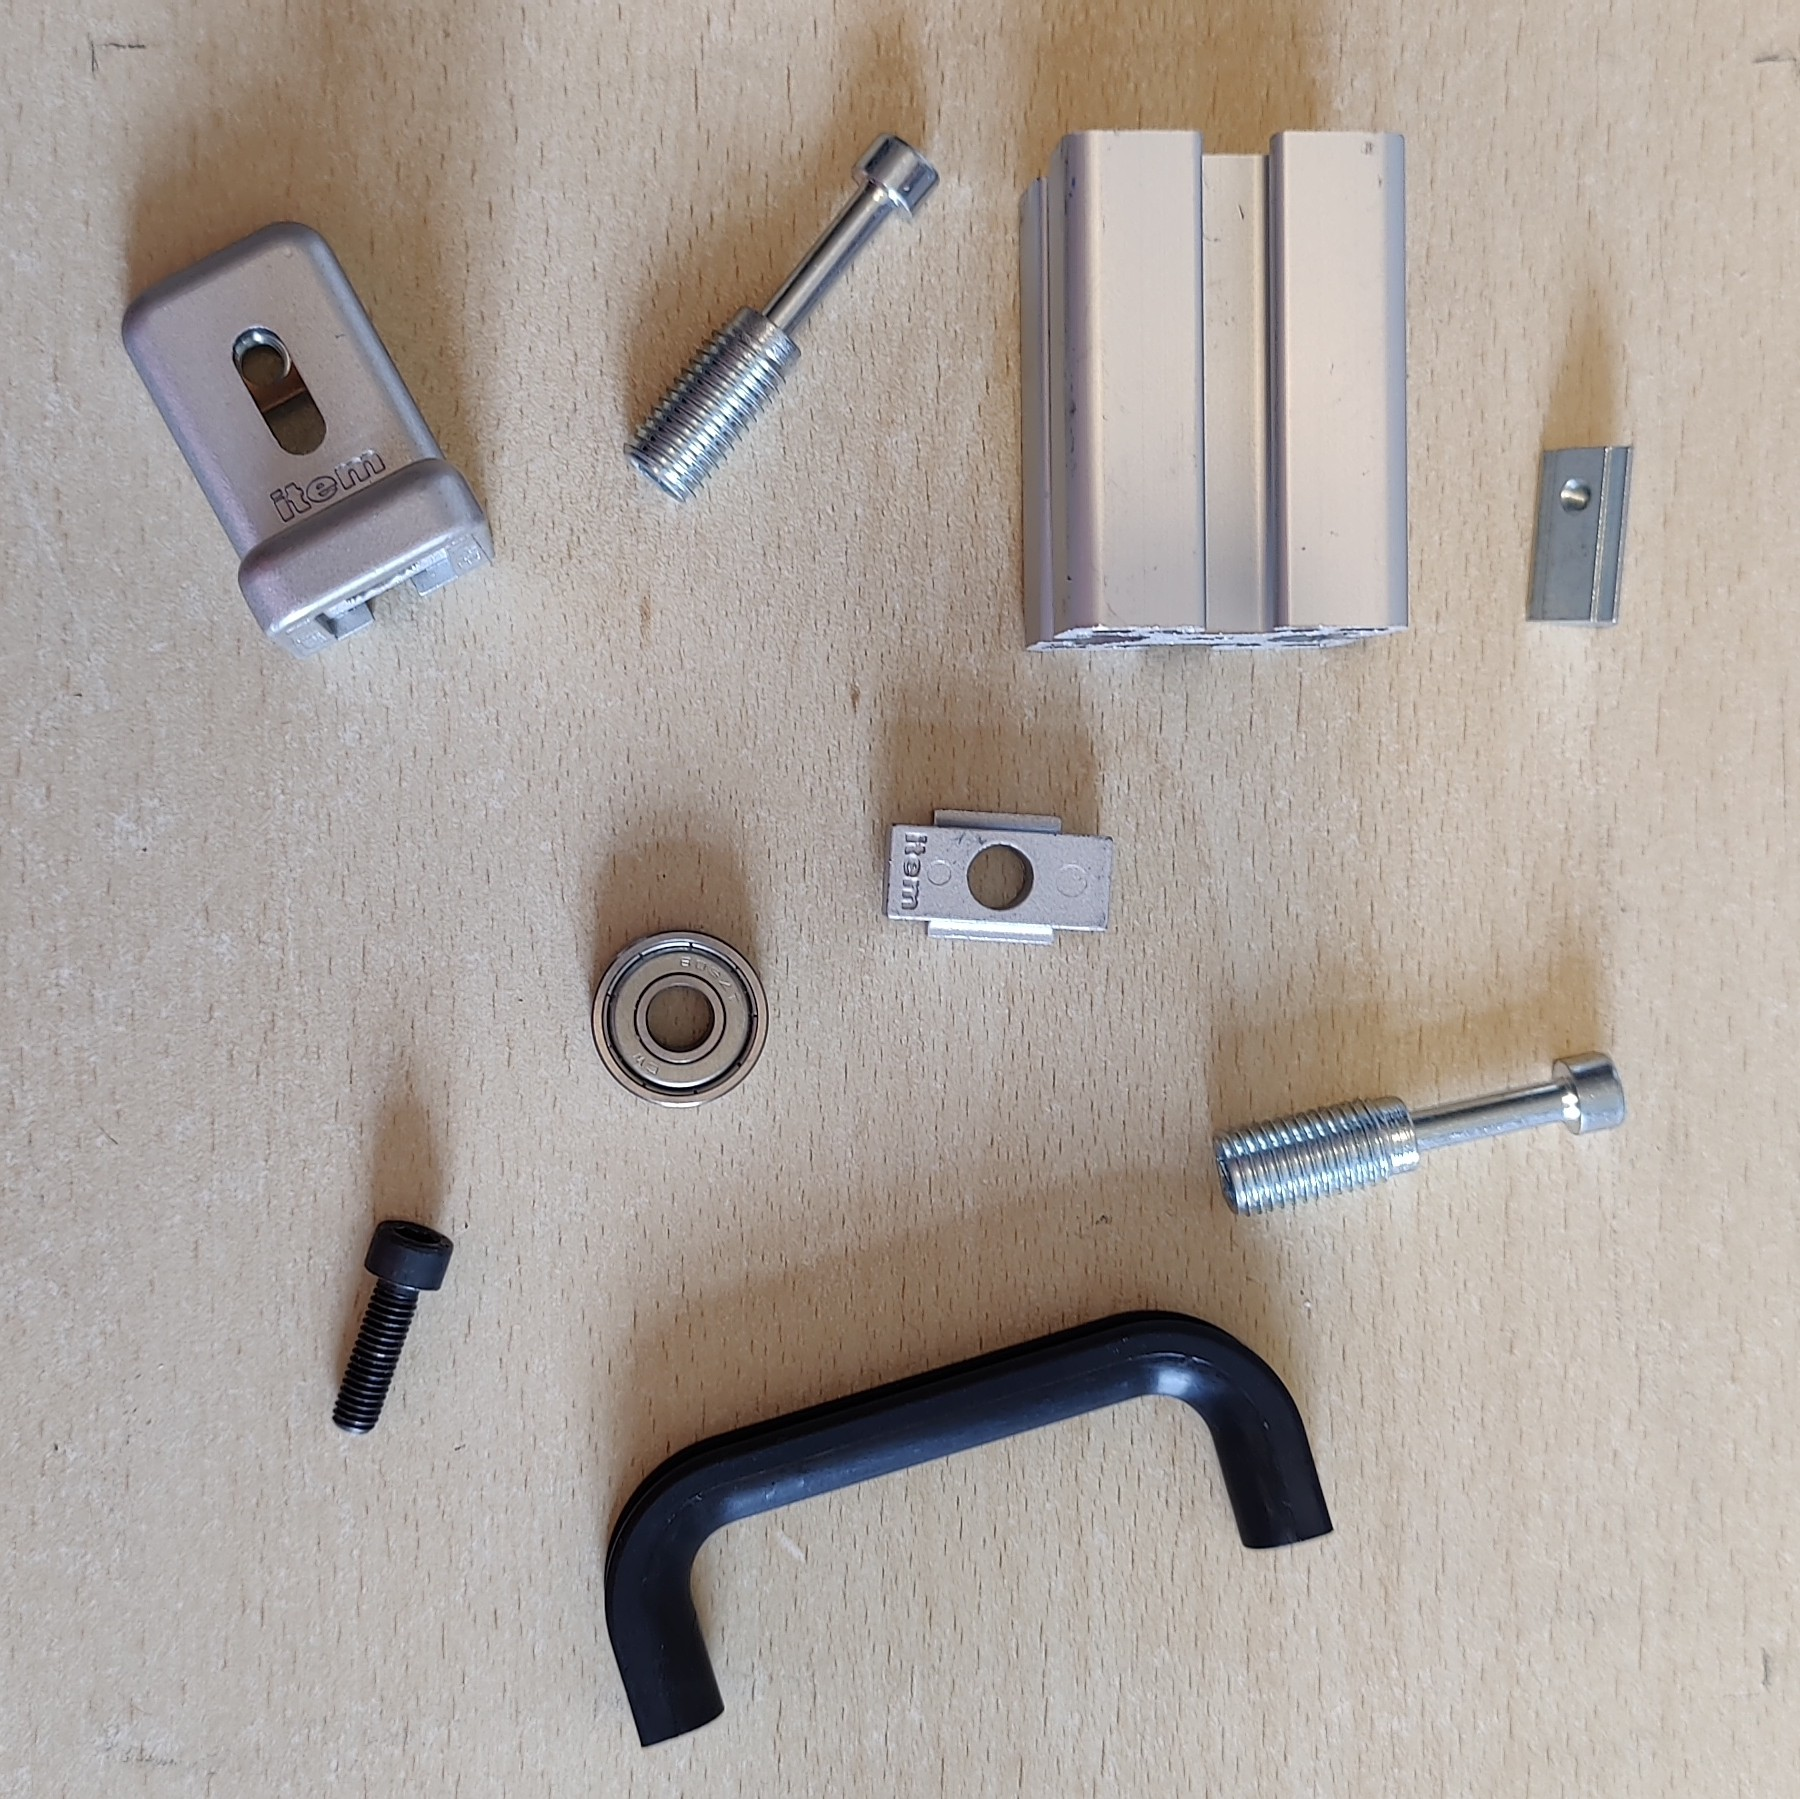Aluminium Extension: (1013, 125, 1415, 657)
Ball Bearing: (590, 926, 769, 1110)
Multiwinkel: (120, 217, 496, 666)
Pull Handle: (601, 1306, 1336, 1750)
Shoulder Socket Head Cap Screw: (619, 130, 942, 506), (1210, 1048, 1630, 1222)
Socket Head Cap Screw: (331, 1216, 455, 1438)
T Nut Square: (879, 802, 1117, 951)
T Spring Nut: (1523, 438, 1639, 633)
